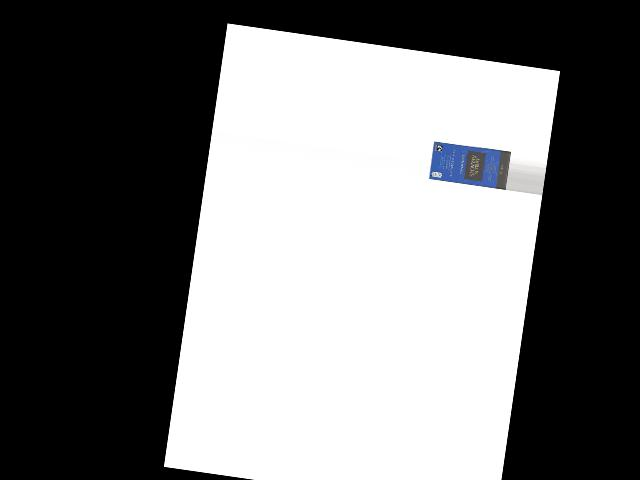chocolate: (429, 140, 510, 190)
